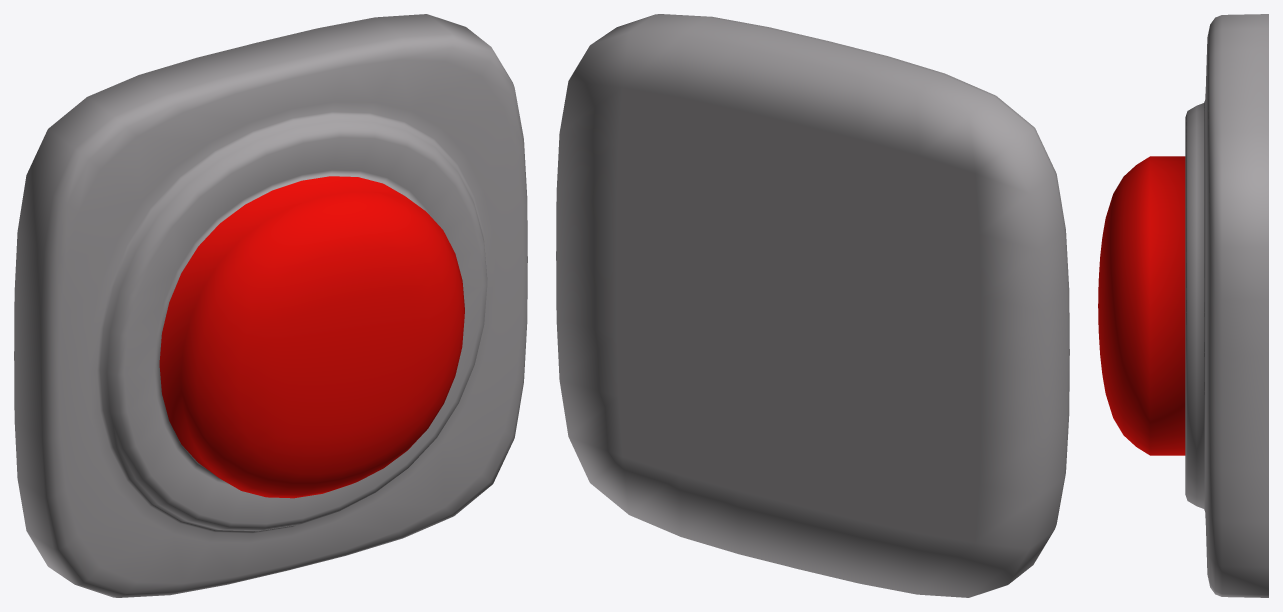
The model's file is SkapeKeyButton.fbx.
3 views of the same model, side by side, from view 1: azimuth 30°, elevation 25°; view 2: azimuth 150°, elevation 25°; view 3: azimuth 270°, elevation 25° (orthographic). The views are drawn at different scales.
Visible parts, largest first — view 1: Cube; view 2: Cube; view 3: Cube.
Part boxes in pixels (x1,y1,x2,y2): Cube: [14, 14, 527, 597]; Cube: [556, 14, 1069, 597]; Cube: [1098, 14, 1268, 597].
Bounding box in the file's own units: 313 × 313 × 106.
